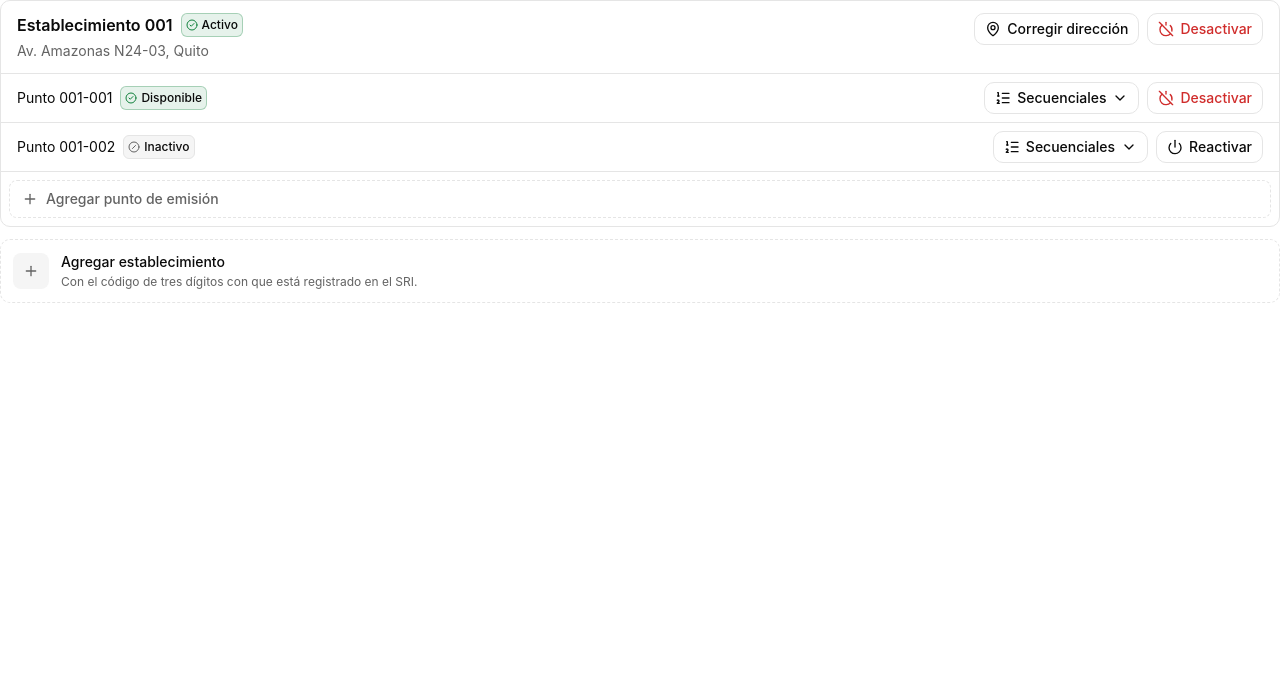
Test: secuenciales de cada punto (design D14) › un punto inactivo también muestra y ajusta sus secuenciales
This screenshot has width=1280, height=693.
Step 1. Click the button with aria-label "Secuenciales del punto 001-002" → (1070, 147), box 993,131 -> 1148,163
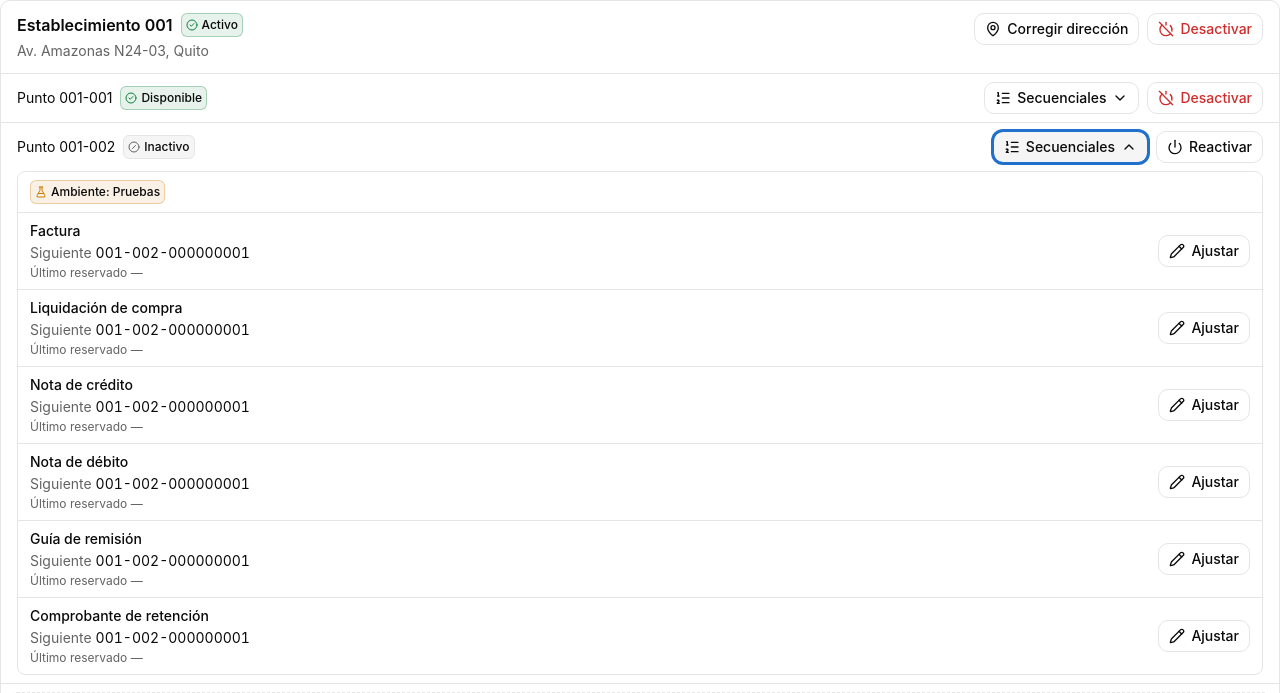
Check: the button with aria-label "Ajustar el siguiente secuencial de factura del punto 001-002" is enabled, box 1158,235 -> 1250,267
